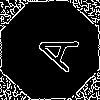A: (25, 25, 80, 73)
